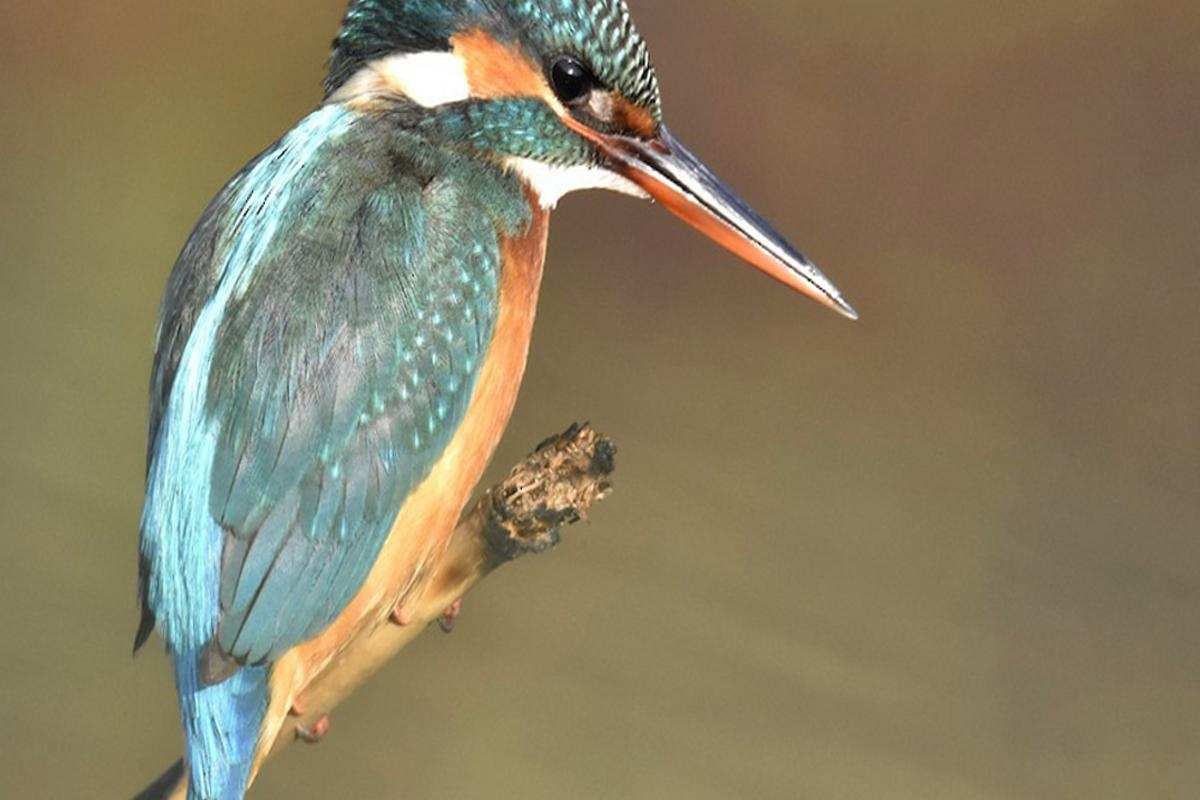kingfisher: (78, 2, 856, 784)
